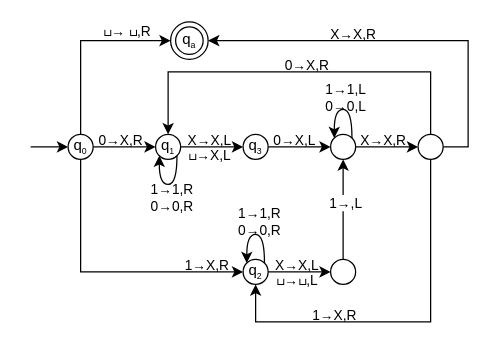
The diagram is 500 pixels wide and 354 high, and some of its shapes have lost their labels. The shapes that lost their labels are listed below. From the top down, each one's centre as x and y in pixels, then its label:
(x=342, y=146): q 4
(x=430, y=146): q 5
(x=342, y=271): q 6
